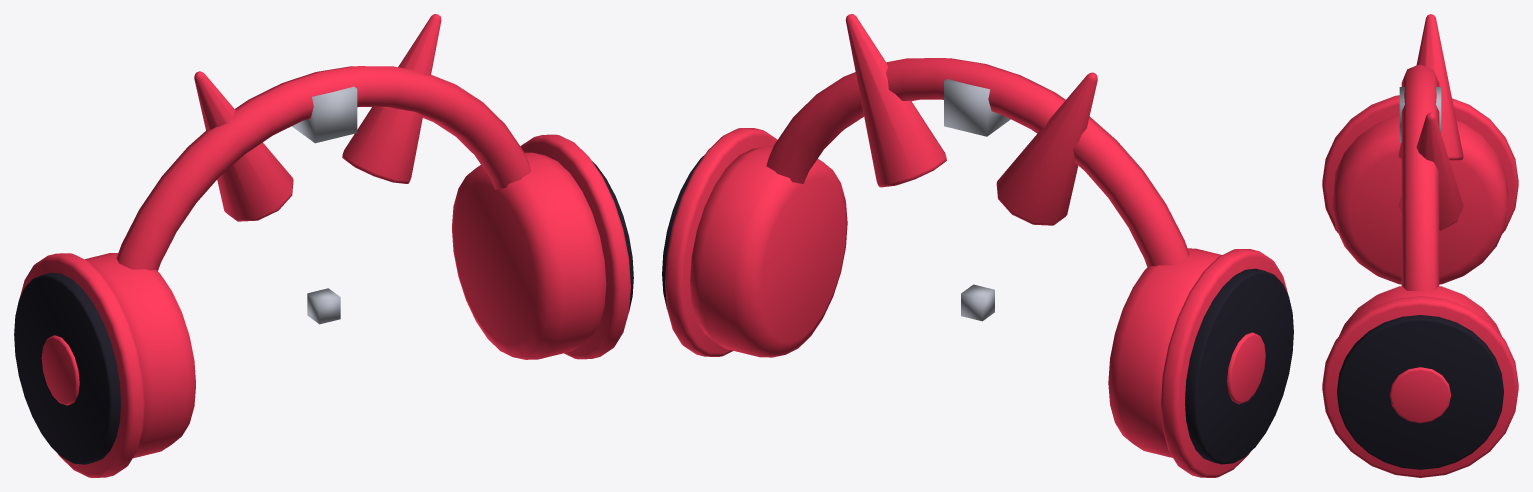
Rendered from Mythic.fbx.
The picture shows the model from 3 angles, left to right: view 1: azimuth 30°, elevation 25°; view 2: azimuth 150°, elevation 25°; view 3: azimuth 270°, elevation 25°; orthographic projection. The views are drawn at different scales.
Visible parts, largest first — view 1: Red2, Spin_Vinyl-1, Pulse_Ring-1, Pulse_Ring1, FXPoint_Embers, Spin_VinylLabel-1, KitOrigin; view 2: Red2, Spin_Vinyl-1, Pulse_Ring-1, Pulse_Ring1, FXPoint_Embers, Spin_VinylLabel-1, KitOrigin; view 3: Red2, Spin_Vinyl1, Pulse_Ring1, Pulse_Ring-1, Spin_VinylLabel1, FXPoint_Embers.
Boxes of the visible parts, x1,y1,x2,y2 form: Red2: [85, 14, 606, 458]; Spin_Vinyl-1: [14, 272, 120, 464]; Pulse_Ring-1: [19, 253, 144, 477]; Pulse_Ring1: [520, 134, 630, 359]; FXPoint_Embers: [292, 86, 357, 143]; Spin_VinylLabel-1: [41, 335, 79, 405]; KitOrigin: [307, 288, 340, 324]; Red2: [690, 14, 1221, 457]; Spin_Vinyl-1: [1185, 268, 1293, 464]; Pulse_Ring-1: [1160, 249, 1288, 477]; Pulse_Ring1: [665, 128, 777, 356]; FXPoint_Embers: [944, 79, 1010, 136]; Spin_VinylLabel-1: [1227, 332, 1265, 403]; KitOrigin: [961, 284, 994, 321]; Red2: [1332, 14, 1508, 335]; Spin_Vinyl1: [1337, 315, 1503, 469]; Pulse_Ring1: [1322, 296, 1518, 477]; Pulse_Ring-1: [1322, 95, 1518, 232]; Spin_VinylLabel1: [1389, 367, 1451, 423]; FXPoint_Embers: [1399, 87, 1441, 142].
Bounding box in the file's own units: 2.51 × 1.64 × 0.94.
